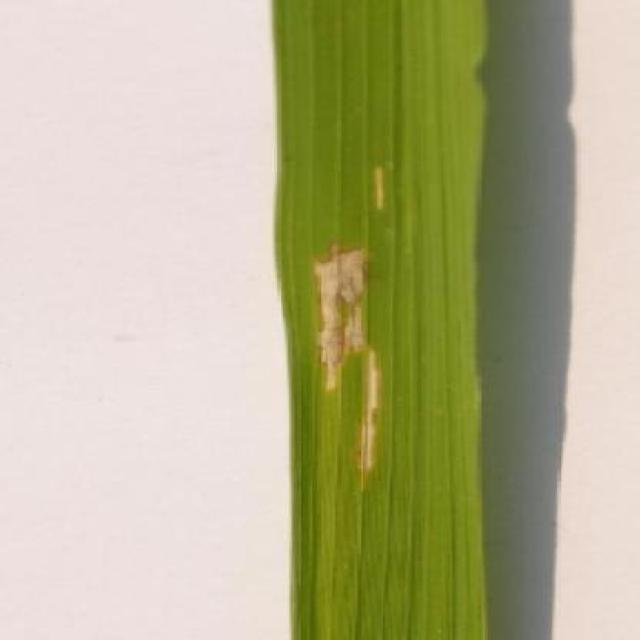Brown_Spot: (265, 0, 489, 640)
